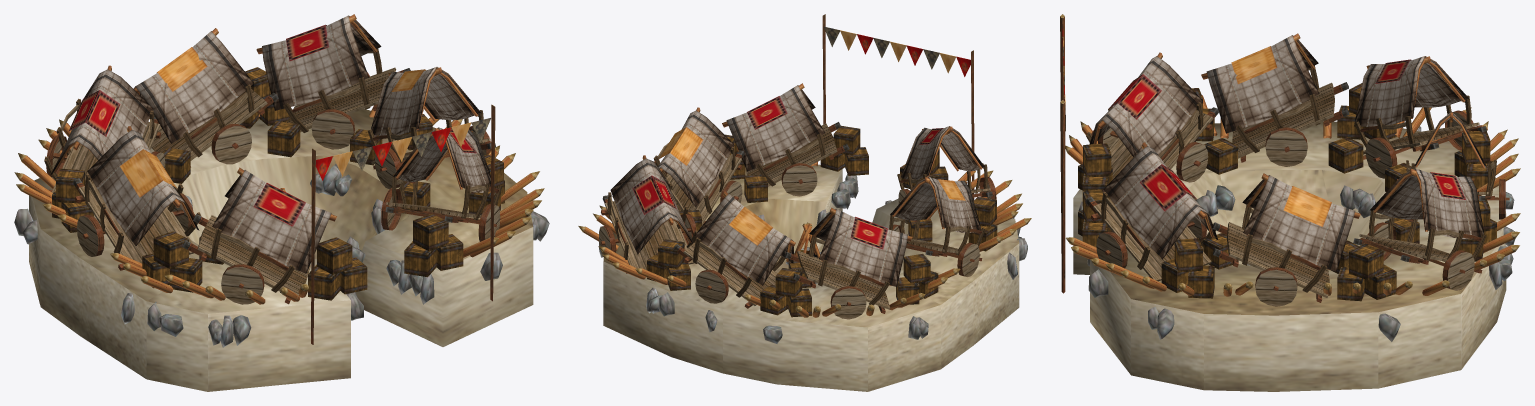
Rendered from fortress.dae.
3 renders of one model, left to right at view 1: azimuth 30°, elevation 25°; view 2: azimuth 150°, elevation 25°; view 3: azimuth 270°, elevation 25°, orthographic. The views are drawn at different scales.
Visible parts, largest first — view 1: fortress; view 2: fortress; view 3: fortress.
Part boxes in pixels (x1,y1,x2,y2): fortress: (14, 14, 549, 391); fortress: (578, 14, 1031, 391); fortress: (1060, 14, 1520, 391).
Bounding box in the file's own units: 25.36 × 25.13 × 14.39.
